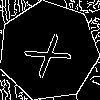X: (23, 26, 81, 79)
